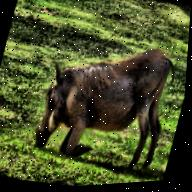boar: (25, 27, 182, 183)
